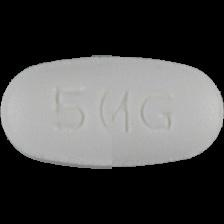64725-0515: (0, 0, 224, 224)
